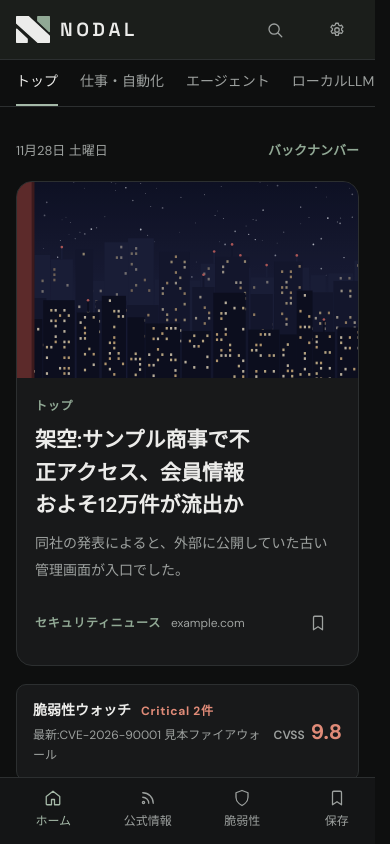
Test case: さがす › スマホ用の虫めがねのボタンで欄を開閉できる
Click the button named "検索欄を開く" at (275, 30), box [253,8,297,52]
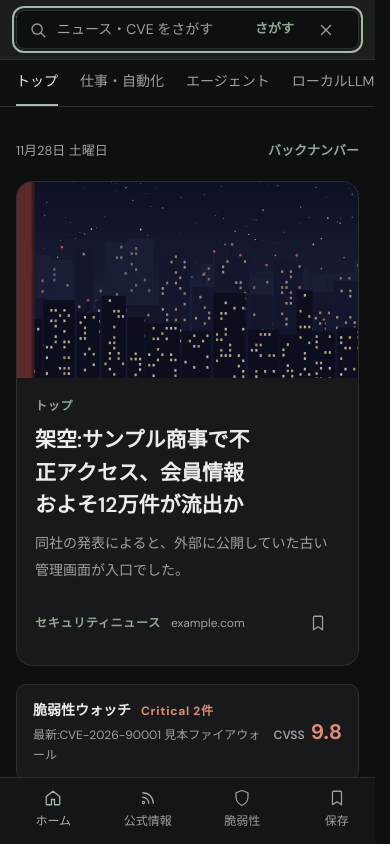
Result: the button named "検索欄を閉じる" is expanded at [253,8,297,52]
Click the button named "検索を閉じる" at (326, 30), box [306,10,346,50]
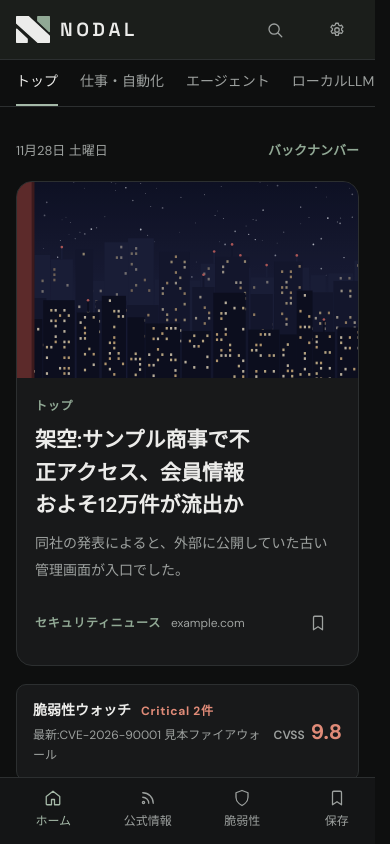
Result: the button named "検索欄を開く" is collapsed at [253,8,297,52]
